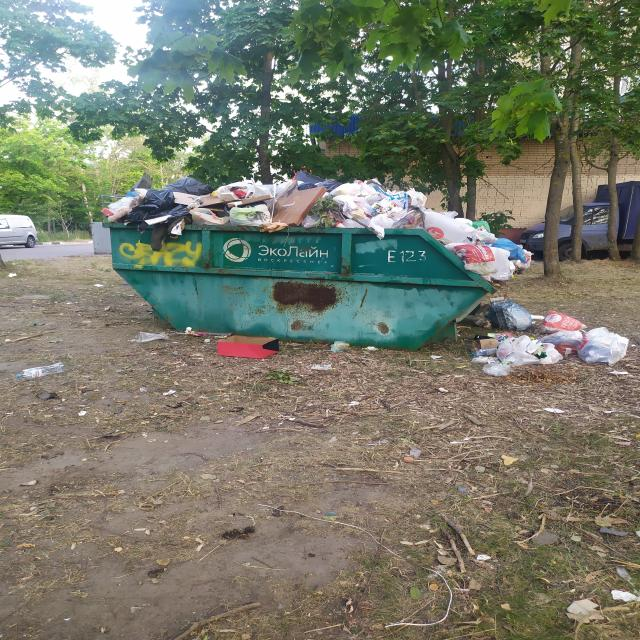bin: (106, 224, 490, 349)
trash: (109, 175, 423, 222), (472, 299, 634, 374), (425, 210, 541, 289), (133, 320, 288, 360), (10, 357, 76, 384)
